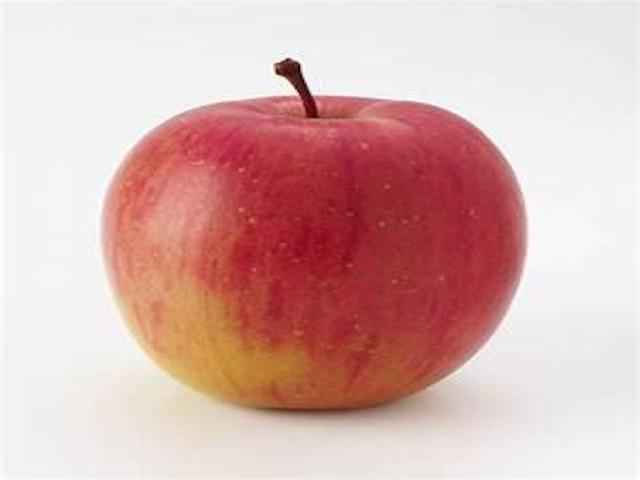apple: (98, 52, 534, 418)
